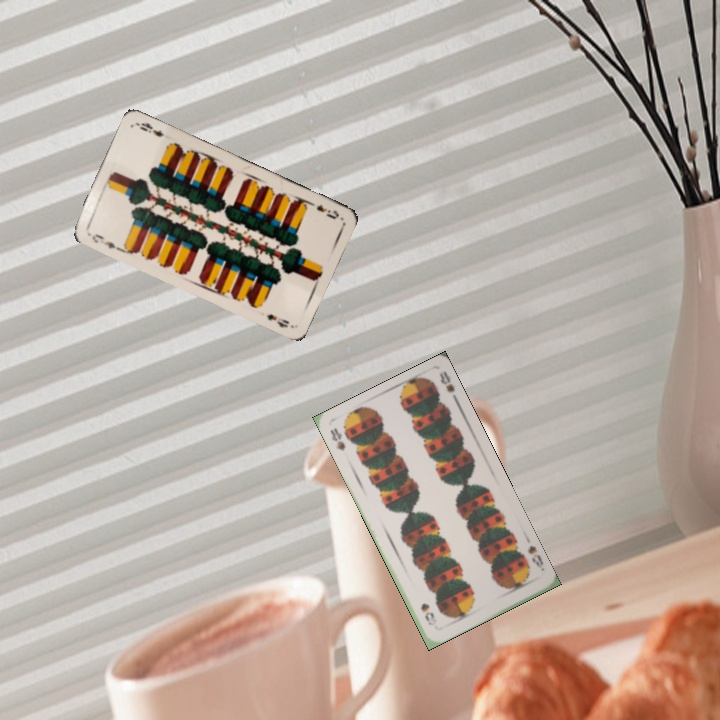E9: (305, 198, 342, 222), (88, 230, 122, 253)
S8: (524, 541, 547, 574), (326, 423, 348, 453)
